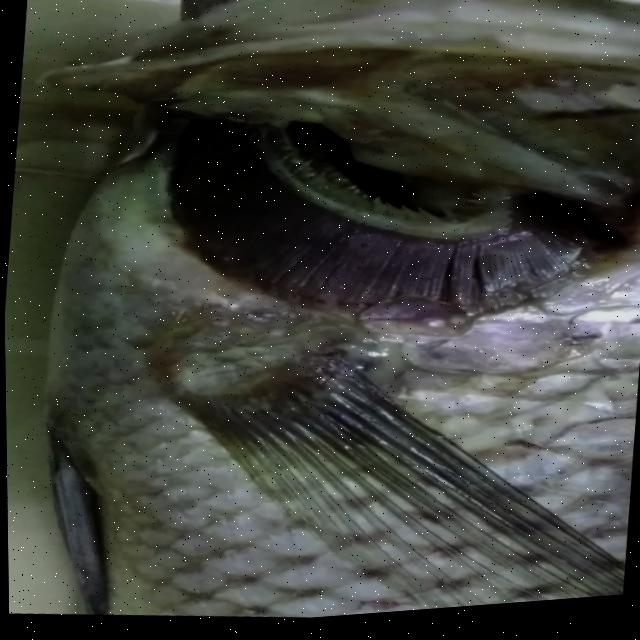Non-Fresh: (142, 73, 632, 362)
